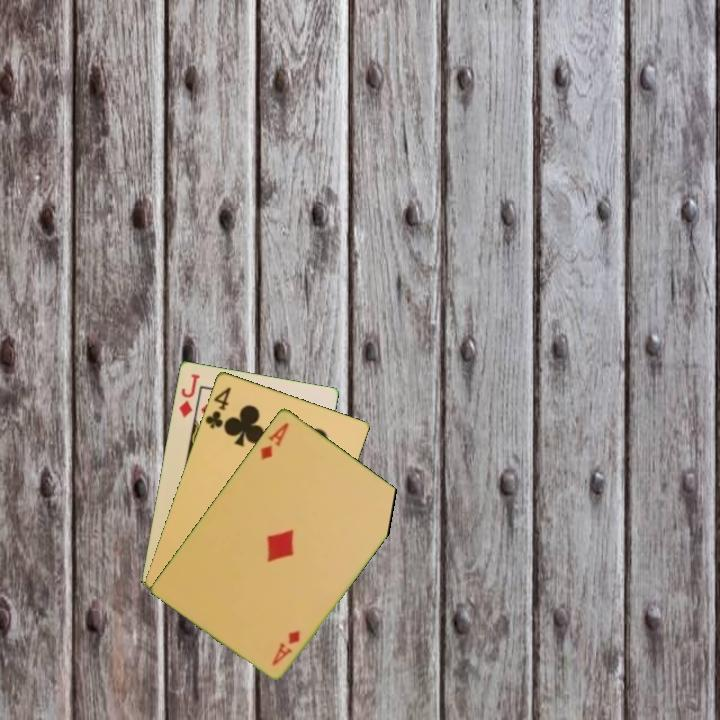4c: (202, 383, 234, 431)
Ad: (257, 418, 292, 462), (268, 626, 303, 669)
Jd: (175, 370, 202, 420)
